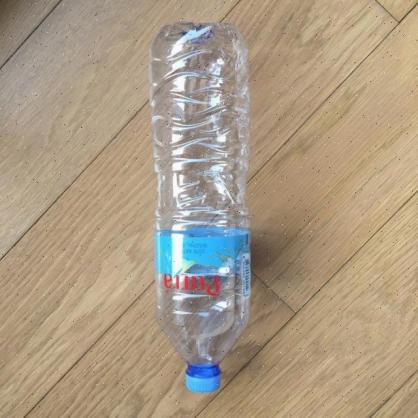bottle: (147, 20, 254, 394)
cap: (184, 369, 222, 393)
label: (152, 227, 252, 299)
